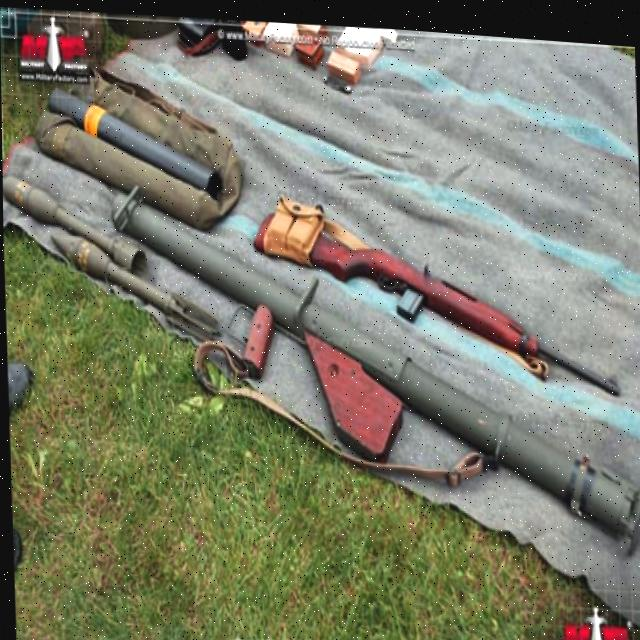firearm: (249, 197, 620, 397)
grenade: (2, 153, 146, 272), (45, 223, 177, 315)
rocket: (105, 169, 640, 561)
